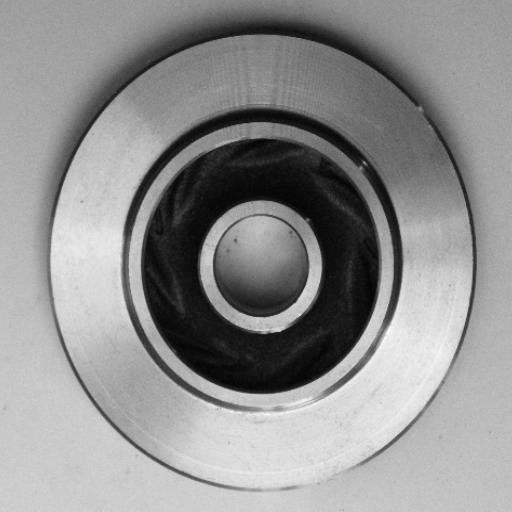scratch: (237, 389, 332, 420)
unpolished_casting: (48, 30, 480, 499)
